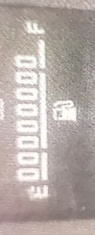grid_pose: (43, 43, 85, 212)
